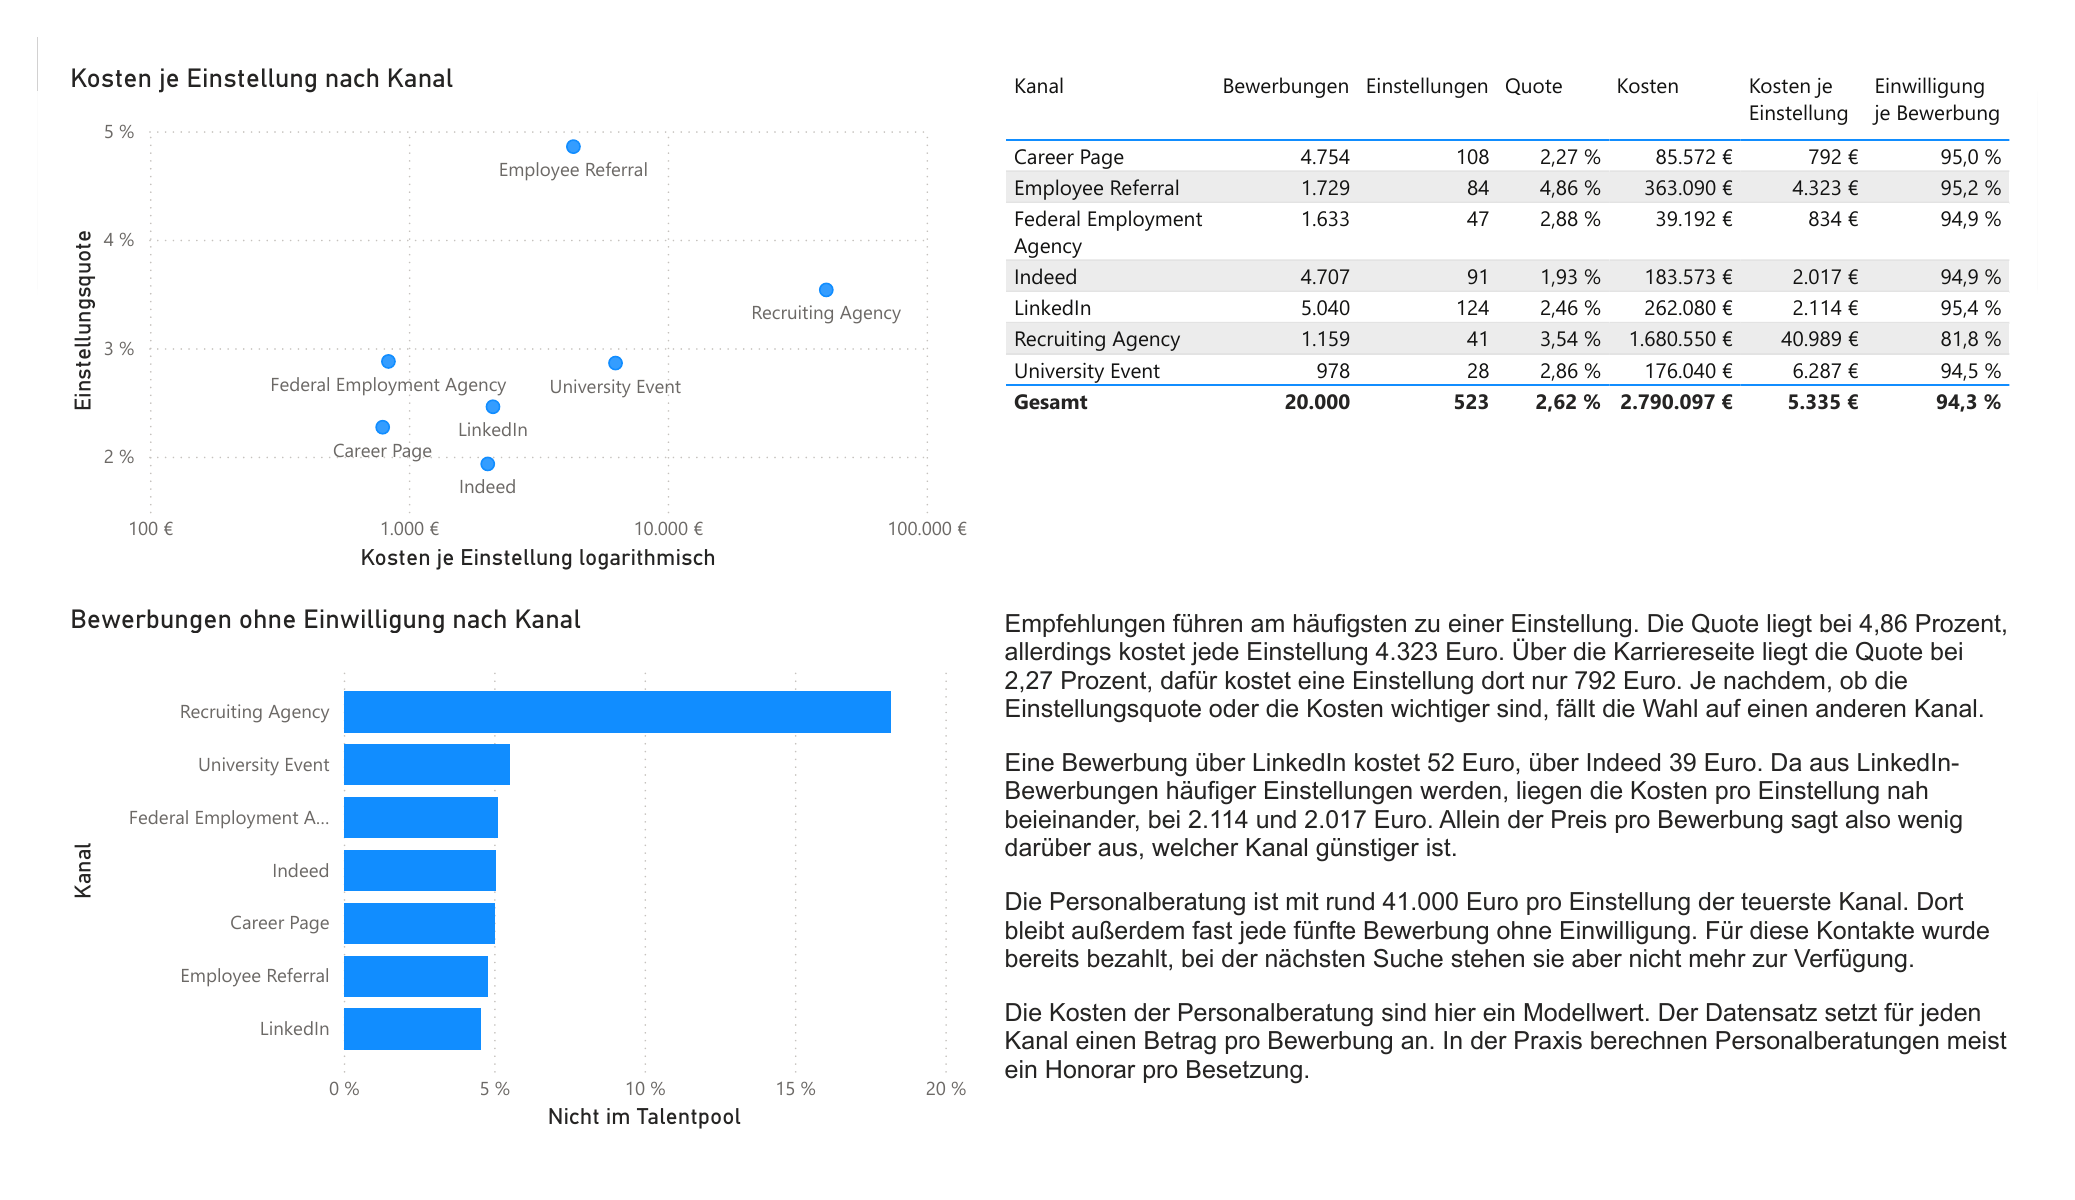

The page's visual inventory and layout, read from the dashboard file:
{"tool":"powerbi","page":{"name":"Kanäle","canvas":[1280,720],"ordinal":2},"visuals":[{"type":"scatterChart","title":"Kosten je Einstellung nach Kanal","fields":{"Category":["dim_source.source_name"],"X":["fact_application.Kosten je Einstellung"],"Y":["fact_application.Einstellungsquote"]},"box":[15.6,15.6,584.6,330.7],"z":0},{"type":"clusteredBarChart","title":"Bewerbungen ohne Einwilligung nach Kanal","fields":{"Category":["dim_source.source_name"],"Y":["fact_application.Nicht im Talentpool"]},"box":[15.6,361.8,584.6,342.4],"z":1000},{"type":"tableEx","fields":{"Values":["dim_source.source_name","fact_application.Bewerbungen","fact_application.Einstellungen","fact_application.Einstellungsquote","fact_application.Kosten","fact_application.Kosten je Einstellung","fact_application.Talentpool-Quote"]},"box":[613.7,15.6,657.5,329.7],"z":2000},{"type":"textbox","box":[614,362,658,342],"z":3000}]}

Visuals, with their boxes on the page's 1280x720 design canvas (x1, y1, x2, y2). These are canvas units, not pixel positions in the 2075x1200 screenshot, which may show the page scaled, cropped or inside an application window:
"Kosten je Einstellung nach Kanal" scatterChart: [x1=16, y1=16, x2=600, y2=346]
"Bewerbungen ohne Einwilligung nach Kanal" clusteredBarChart: [x1=16, y1=362, x2=600, y2=704]
tableEx - dim_source.source_name x fact_application.Bewerbungen: [x1=614, y1=16, x2=1271, y2=345]
textbox: [x1=614, y1=362, x2=1272, y2=704]
